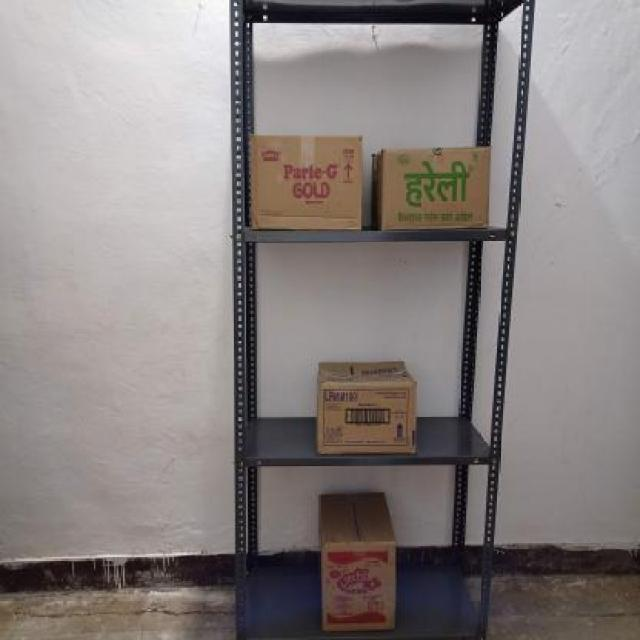box: (248, 135, 361, 232), (382, 149, 490, 231), (314, 383, 418, 457), (322, 542, 398, 633)
